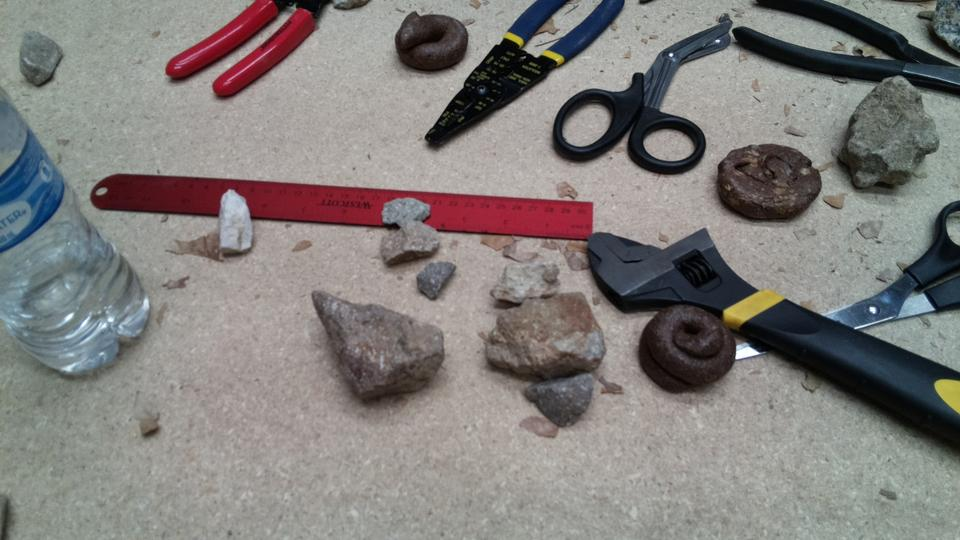poop: (636, 299, 739, 395), (715, 141, 824, 224), (394, 7, 470, 74)
